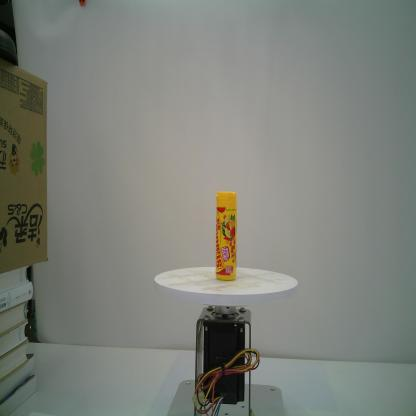Candy: (214, 190, 238, 283)
